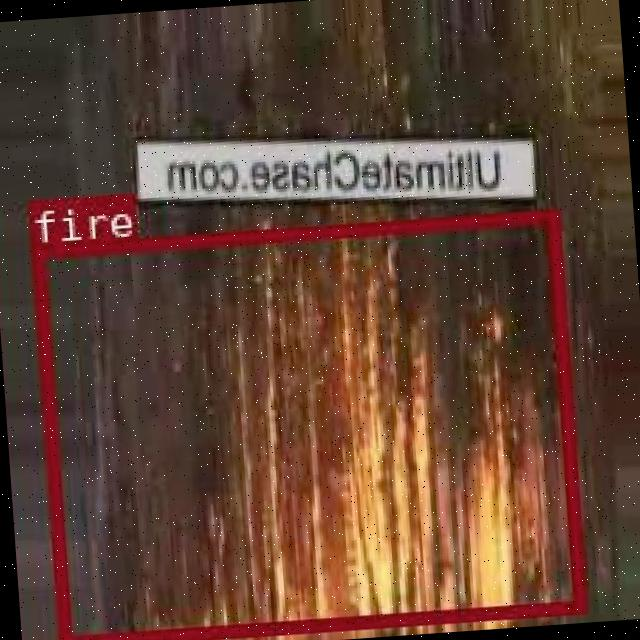fire: (28, 207, 583, 640)
